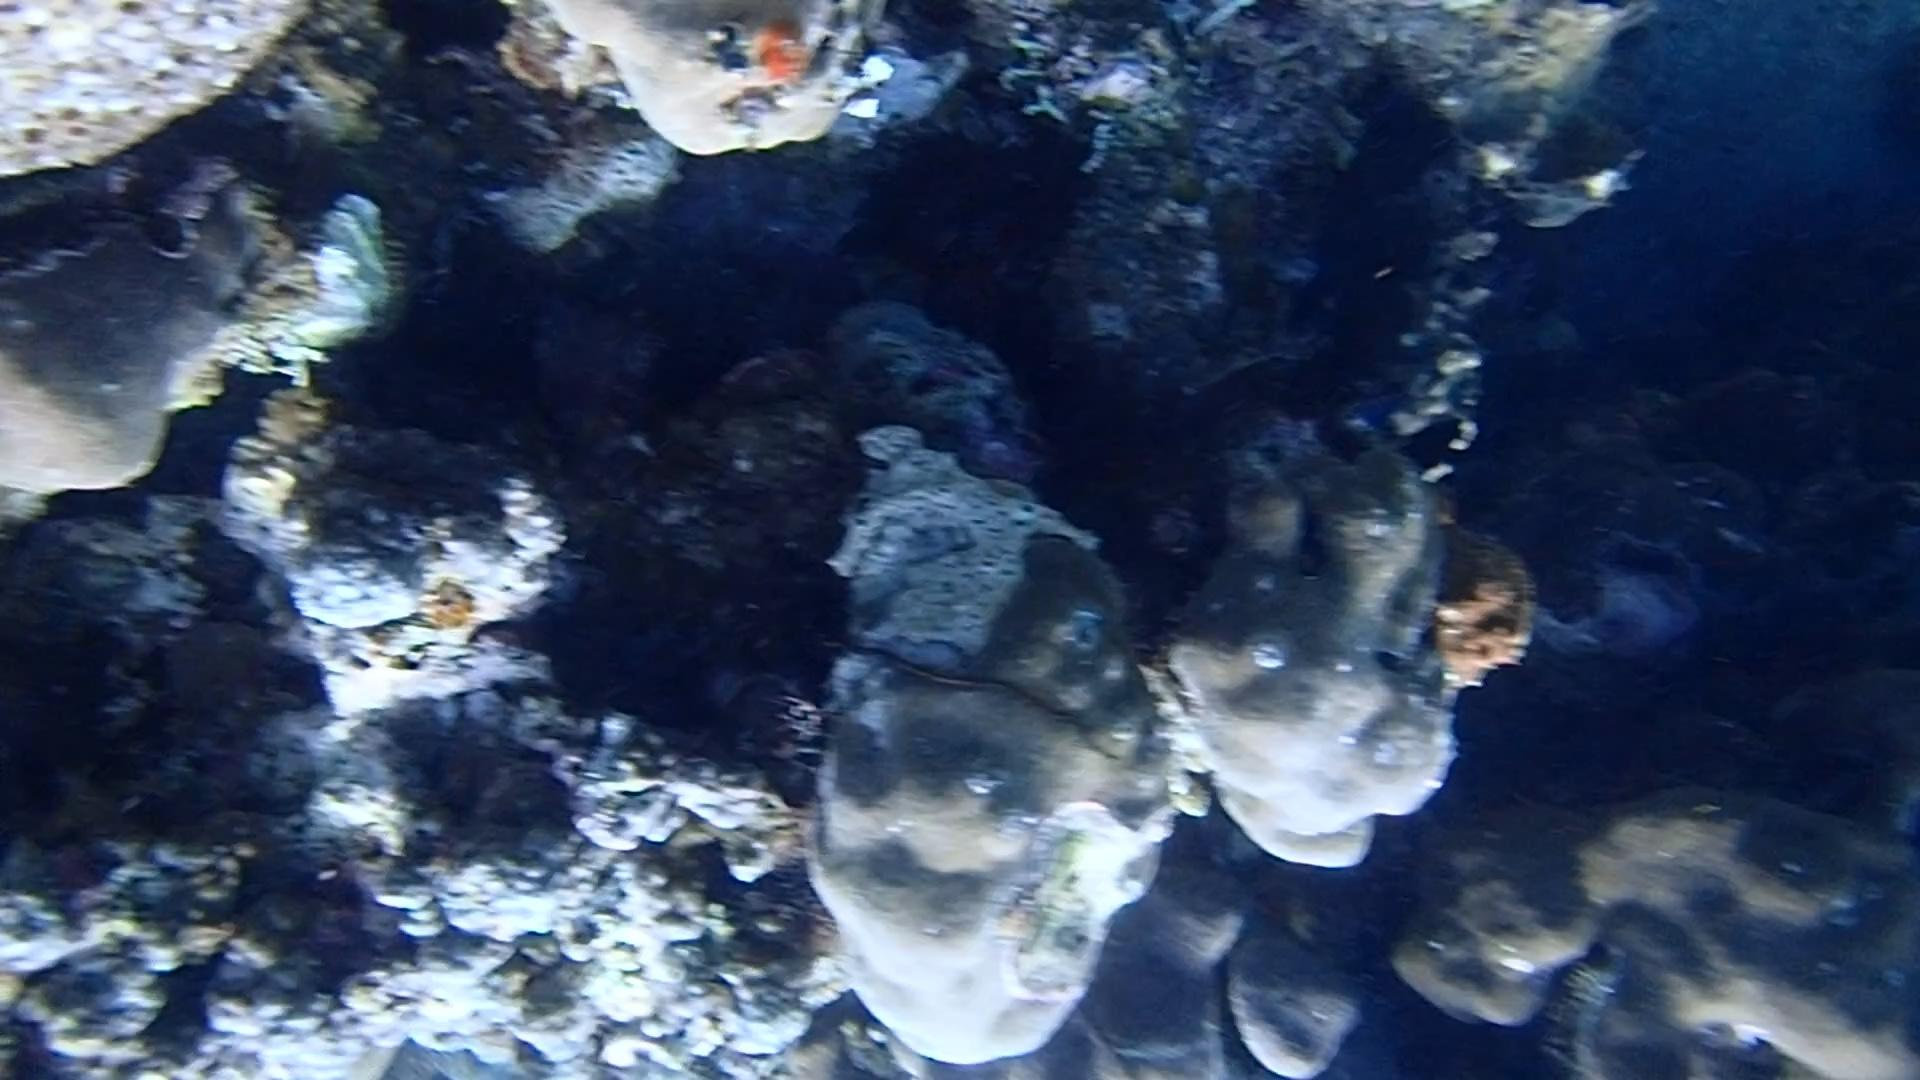Dark Fish: (1386, 405, 1470, 489)
